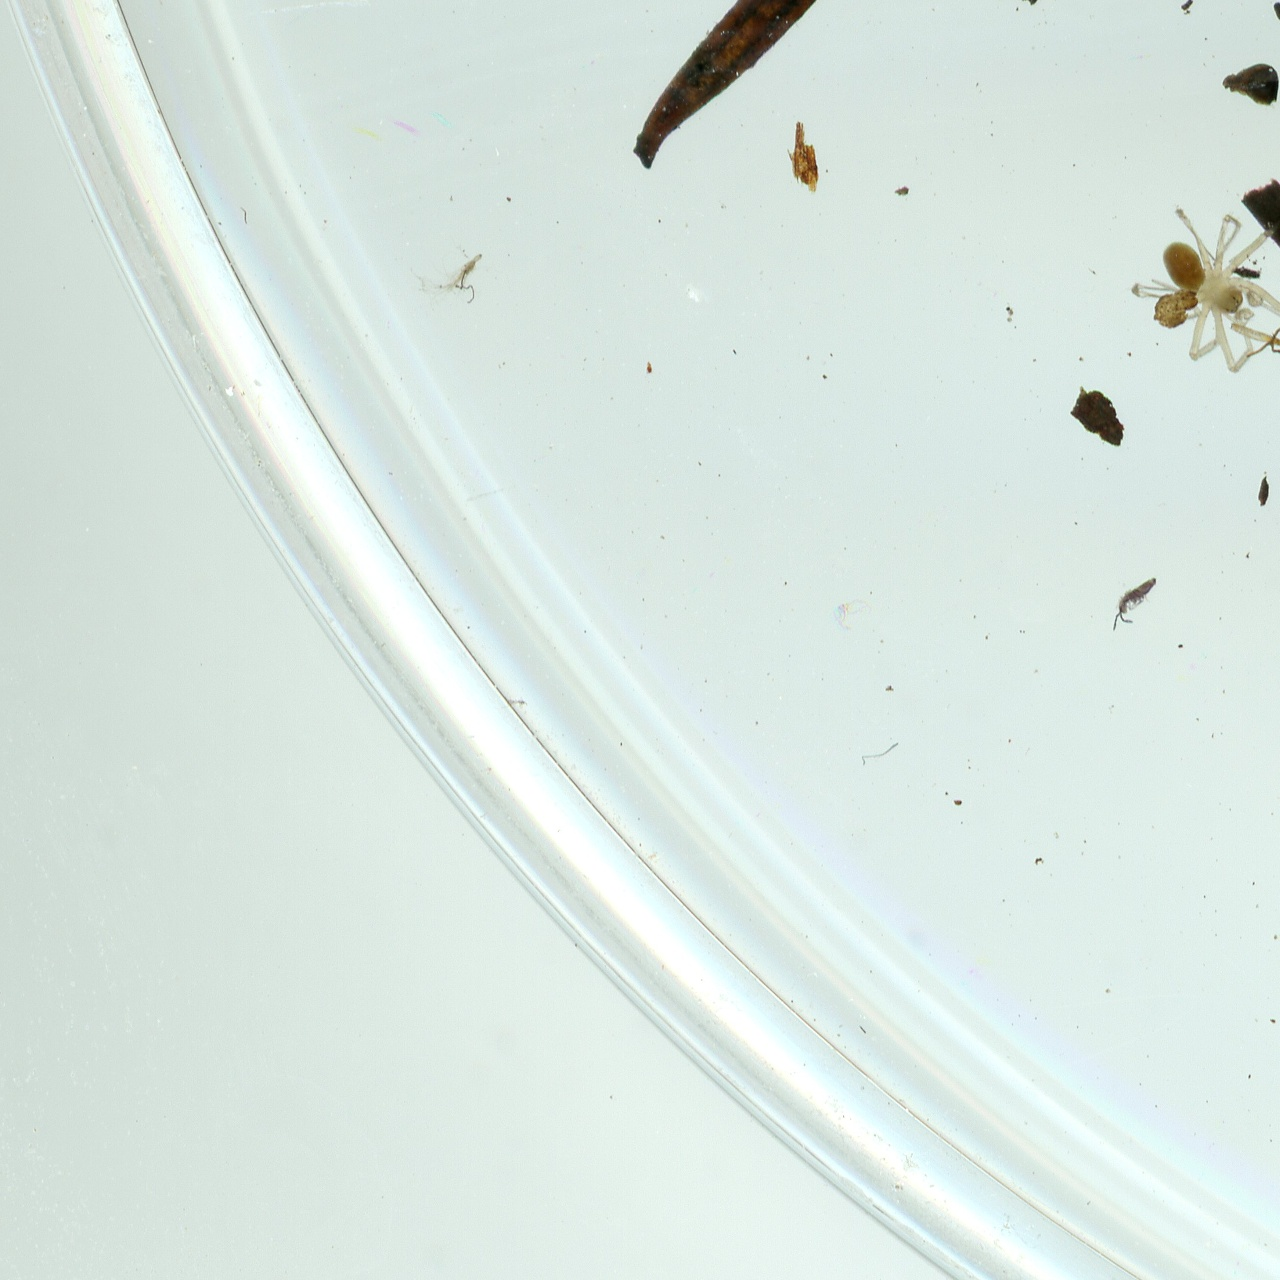arthropod: (1128, 204, 1280, 377), (1110, 575, 1162, 632)
